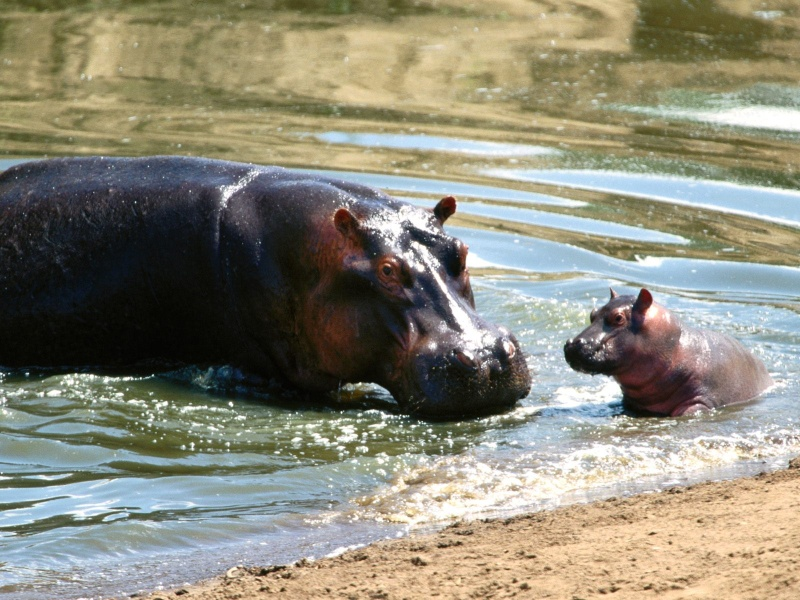hipopotamo: (0, 147, 537, 421), (551, 278, 786, 430)
